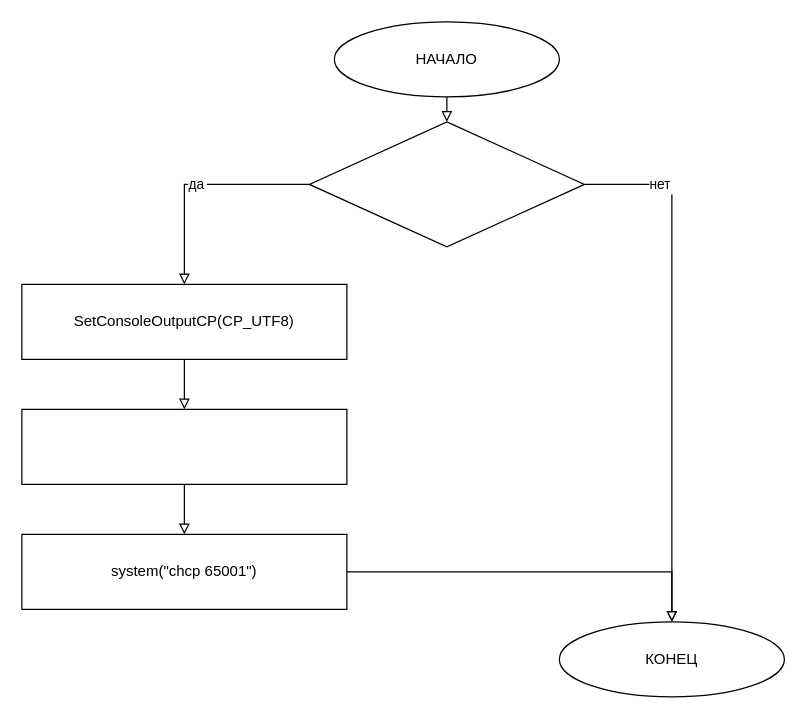
Some shapes in this 806 by 719 pixel diagram are drawn without their labels. The shapes that lost their labels are listed below. From the top down, each one's centre as x and y in pixels, then its label:
At (446,184): "Платформа Windows?".
At (184,446): "SetConsoleCP(CP_UTF8)".
